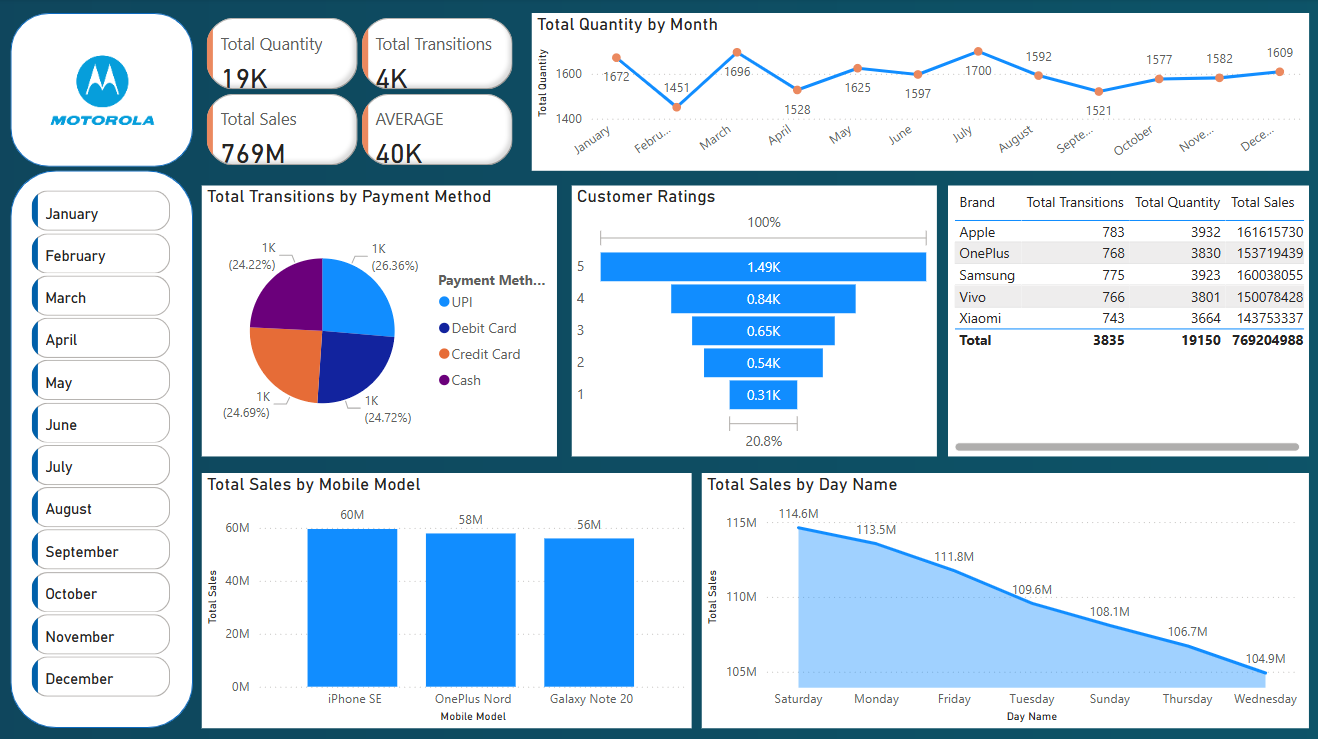

The page's visual inventory and layout, read from the dashboard file:
{"tool":"powerbi","page":{"name":"Page 1","canvas":[1280,720],"ordinal":0},"visuals":[{"type":"shape","box":[0,0,176.7,152.5],"z":0},{"type":"image","box":[24.2,15.7,131.9,121],"z":1000},{"type":"shape","box":[0,167,176.7,553.2],"z":2000},{"type":"advancedSlicerVisual","fields":{"Values":["Mobile_sales_data.Date .Variation.Date Hierarchy.Month"]},"box":[12.1,181.6,144,525.4],"z":3000},{"type":"cardVisual","fields":{"Data":["Mobile_sales_data.Total Quantity","Mobile_sales_data.Total Transitions","Mobile_sales_data.Total Sales","Mobile_sales_data.AVERAGE"]},"box":[185.2,7.3,291.7,159.8],"z":4000},{"type":"lineChart","fields":{"Y":["Mobile_sales_data.Total Quantity"],"Category":["Mobile_sales_data.Date .Variation.Date Hierarchy.Month"]},"box":[487.8,7.3,782,152.5],"z":5000},{"type":"columnChart","fields":{"Category":["Mobile_sales_data.Mobile Model"],"Y":["Mobile_sales_data.Total Sales"]},"box":[185.2,460,474.5,246.9],"z":6000},{"type":"pieChart","fields":{"Category":["Mobile_sales_data.Payment Method"],"Y":["Mobile_sales_data.Total Transitions"]},"box":[185.2,181.6,332.9,262.7],"z":7000},{"type":"funnel","title":" Customer Ratings","fields":{"Category":["Mobile_sales_data.Customer Ratings"],"Y":["CountNonNull(Mobile_sales_data.Customer Name)"]},"box":[529,181.6,372.8,262.7],"z":8000},{"type":"areaChart","fields":{"Category":["Mobile_sales_data.Day Name"],"Y":["Mobile_sales_data.Total Sales"]},"box":[681.5,460,598,246.9],"z":9000},{"type":"tableEx","fields":{"Values":["Mobile_sales_data.Brand","Mobile_sales_data.Total Transitions","Mobile_sales_data.Total Quantity","Mobile_sales_data.Total Sales"]},"box":[912.7,181.6,366.8,262.7],"z":10000}]}

Visuals, with their boxes in screenshot pixels (x1, y1, x2, y2), scaled from the page's 1280x720 canvas onto the 1318x739 screenshot:
shape: crop(0, 0, 182, 157)
image: crop(25, 16, 161, 140)
shape: crop(0, 171, 182, 738)
advancedSlicerVisual - Mobile_sales_data.Date .Variation.Date Hierarchy.Month: crop(12, 186, 161, 726)
cardVisual - Mobile_sales_data.Total Quantity x Mobile_sales_data.Total Transitions: crop(191, 7, 491, 172)
lineChart - Mobile_sales_data.Total Quantity x Mobile_sales_data.Date .Variation.Date Hierarchy.Month: crop(502, 7, 1307, 164)
columnChart - Mobile_sales_data.Mobile Model x Mobile_sales_data.Total Sales: crop(191, 472, 679, 726)
pieChart - Mobile_sales_data.Payment Method x Mobile_sales_data.Total Transitions: crop(191, 186, 533, 456)
" Customer Ratings" funnel: crop(545, 186, 929, 456)
areaChart - Mobile_sales_data.Day Name x Mobile_sales_data.Total Sales: crop(702, 472, 1317, 726)
tableEx - Mobile_sales_data.Brand x Mobile_sales_data.Total Transitions: crop(940, 186, 1317, 456)
